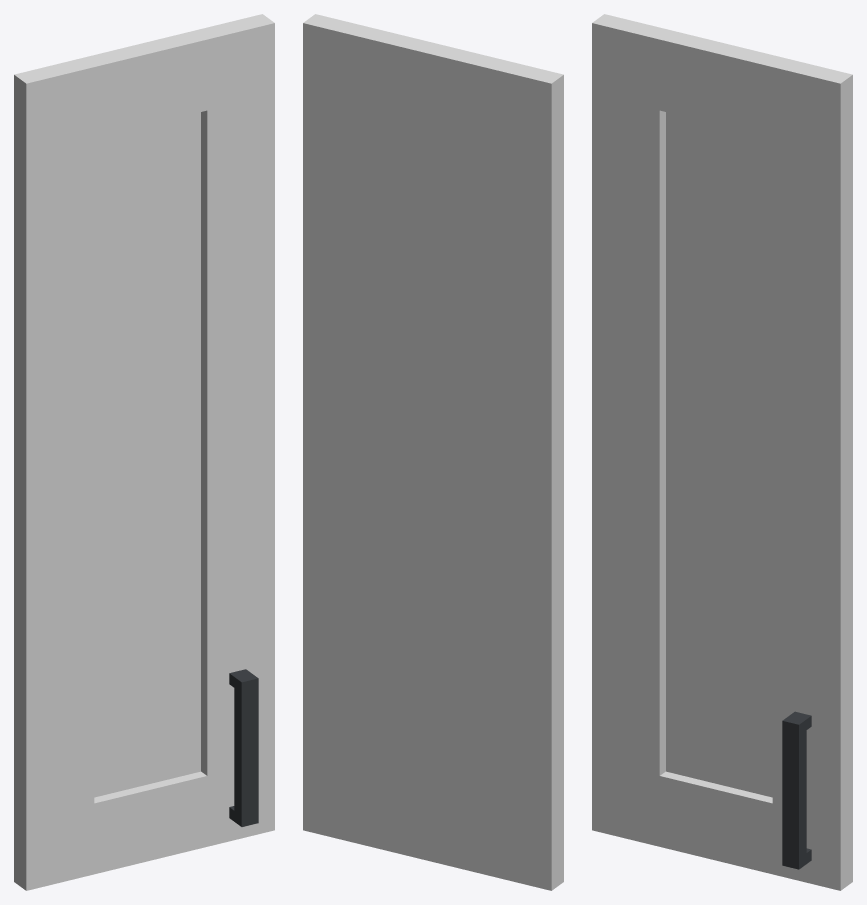
The model's file is Door2_C1_14.fbx.
The picture shows the model from 3 angles, left to right: view 1: azimuth 30°, elevation 25°; view 2: azimuth 150°, elevation 25°; view 3: azimuth 330°, elevation 25°; orthographic projection.
Visible parts, largest first — view 1: Door2_C1_14; view 2: Door2_C1_14; view 3: Door2_C1_14.
Boxes of the visible parts, box(x1,y1,x2,y2) form: Door2_C1_14: box(14, 14, 274, 890); Door2_C1_14: box(303, 14, 563, 890); Door2_C1_14: box(592, 14, 852, 890).
Bounding box in the file's own units: 29 × 90 × 5.03.
